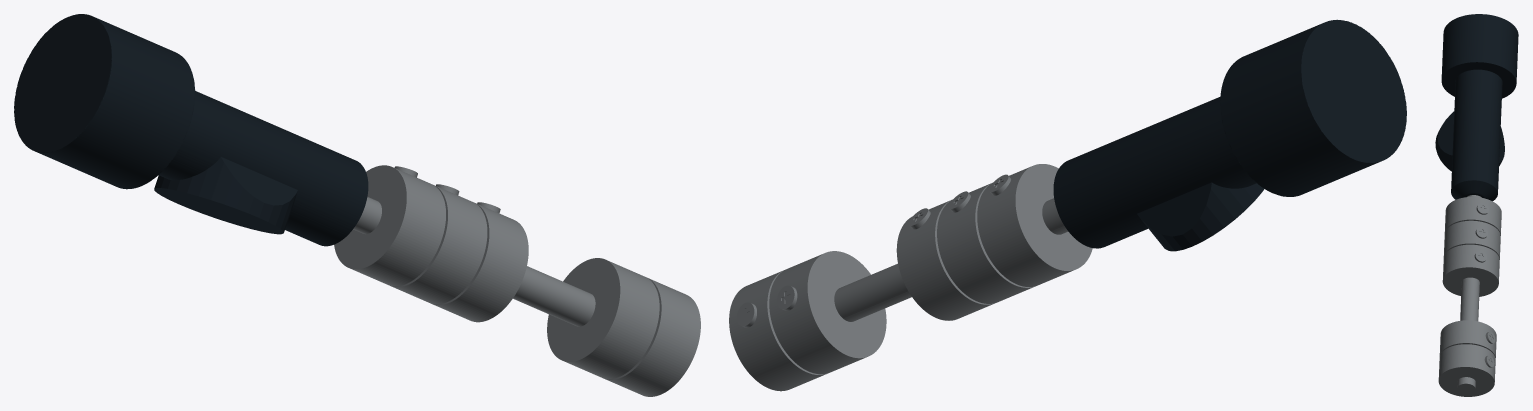
The model's file is telescope_3_turntable_arm.fbx.
3 views of the same model, side by side, from view 1: azimuth 30°, elevation 25°; view 2: azimuth 150°, elevation 25°; view 3: azimuth 270°, elevation 25° (orthographic). The views are drawn at different scales.
Parts seen in each view (by area): view 1: 3_turntable_arm; view 2: 3_turntable_arm; view 3: 3_turntable_arm.
Boxes of the visible parts, x1,y1,x2,y2 form: 3_turntable_arm: (14,14,700,396); 3_turntable_arm: (729,19,1406,391); 3_turntable_arm: (1435,14,1518,396).
Bounding box in the file's own units: 160 × 116 × 34.74.
